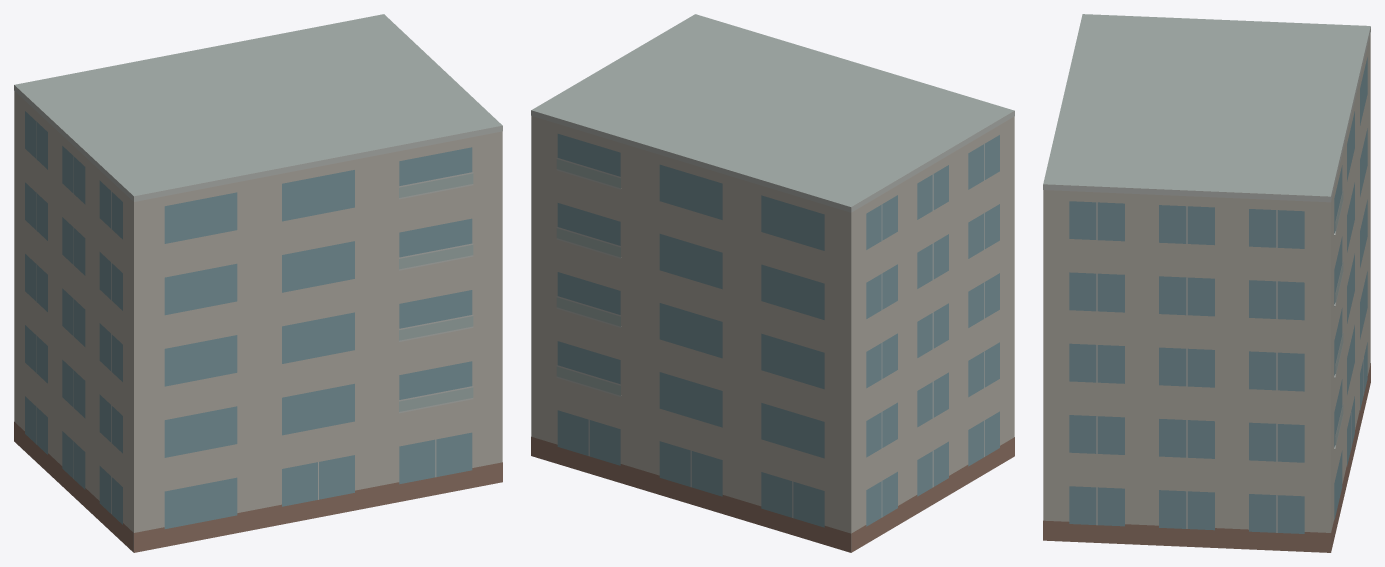
The model's file is survey-upis-32636243.glb.
3 renders of one model, left to right at view 1: azimuth 30°, elevation 25°; view 2: azimuth 150°, elevation 25°; view 3: azimuth 270°, elevation 25°, orthographic. The views are drawn at different scales.
Parts seen in each view (by area): view 1: survey-upis-32636243.tmp; view 2: survey-upis-32636243.tmp; view 3: survey-upis-32636243.tmp.
Boxes of the visible parts, x1,y1,x2,y2 form: survey-upis-32636243.tmp: [14, 14, 502, 552]; survey-upis-32636243.tmp: [531, 14, 1014, 552]; survey-upis-32636243.tmp: [1043, 14, 1370, 552].
Size of the model in its own units: 16.6 by 15.1 by 12.6.
